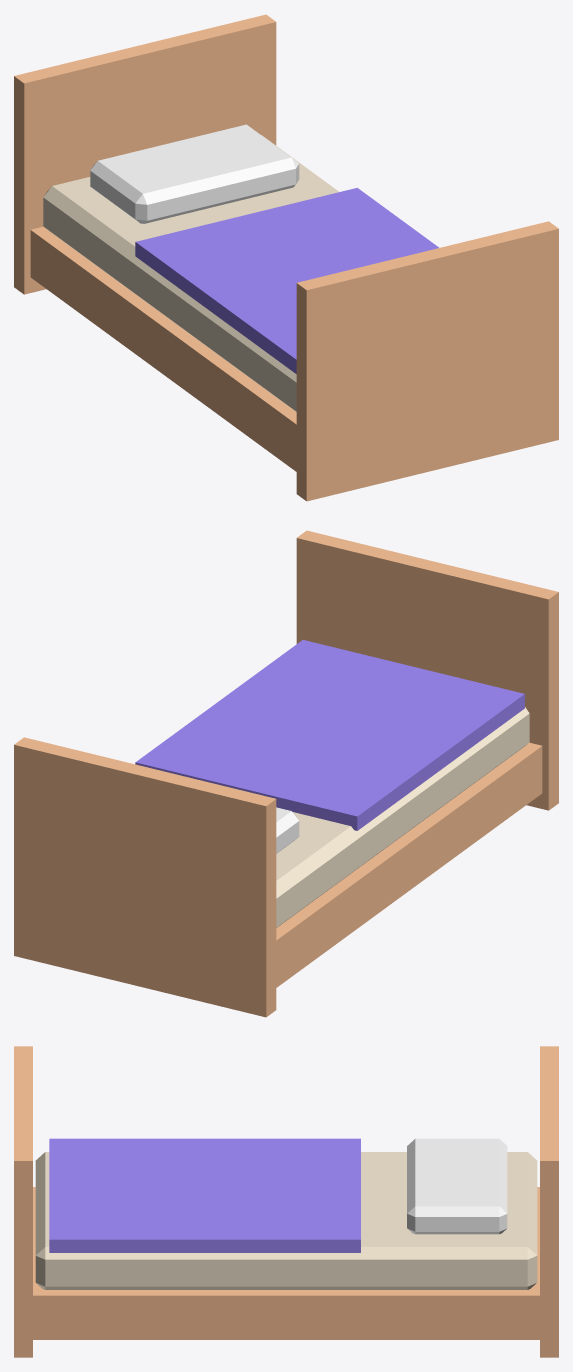
The picture shows the model from 3 angles, top to bottom: view 1: azimuth 30°, elevation 25°; view 2: azimuth 150°, elevation 25°; view 3: azimuth 270°, elevation 25°; orthographic projection. The views are drawn at different scales.
Visible parts, largest first — view 1: End board, End board.001, Blanket, Mattress, Frame, Pillow; view 2: End board.001, Blanket, End board, Frame, Mattress, Pillow; view 3: Blanket, Mattress, Frame, Pillow, End board, End board.001.
Part boxes in pixels (bbox=[...]): End board: bbox=[296, 221, 558, 501]; End board.001: bbox=[14, 14, 276, 294]; Blanket: bbox=[135, 187, 439, 373]; Mattress: bbox=[43, 135, 338, 411]; Frame: bbox=[30, 226, 296, 471]; Pillow: bbox=[90, 124, 299, 223]; End board.001: bbox=[14, 737, 276, 1017]; Blanket: bbox=[135, 640, 524, 830]; End board: bbox=[296, 530, 558, 810]; Frame: bbox=[276, 742, 542, 987]; Mattress: bbox=[276, 707, 529, 927]; Pillow: bbox=[276, 807, 299, 853]; Blanket: bbox=[49, 1138, 360, 1252]; Mattress: bbox=[35, 1152, 537, 1289]; Frame: bbox=[33, 1187, 539, 1339]; Pillow: bbox=[407, 1138, 507, 1234]; End board: bbox=[14, 1046, 32, 1357]; End board.001: bbox=[540, 1046, 558, 1357].
Size of the model in its own units: 100 by 80 by 201.
